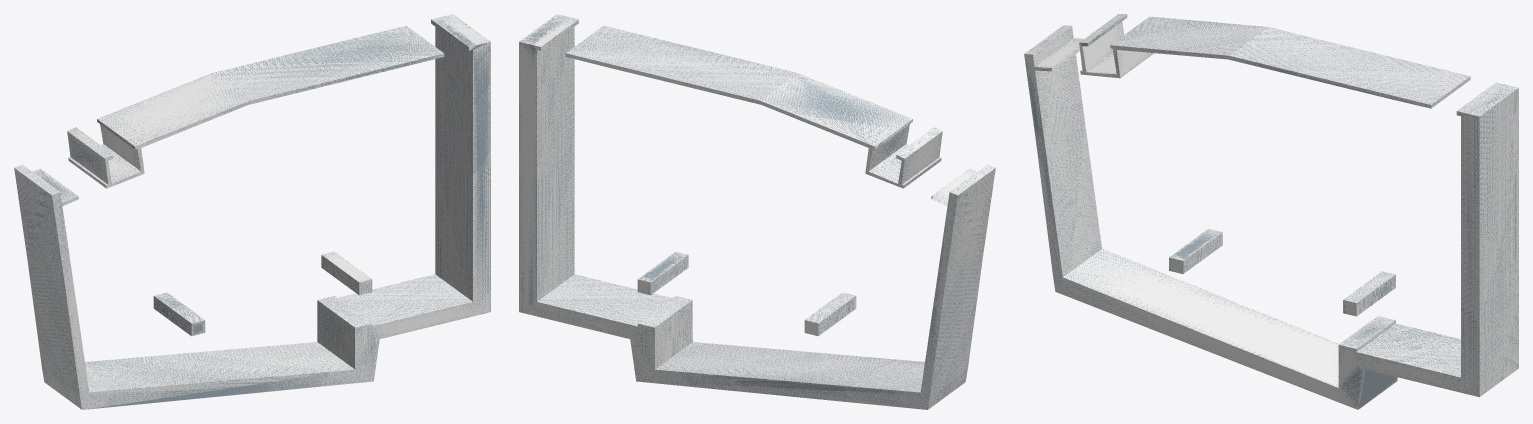
File: room.fbx
3 views of the same model, side by side, from view 1: azimuth 30°, elevation 25°; view 2: azimuth 150°, elevation 25°; view 3: azimuth 330°, elevation 25° (orthographic). The views are drawn at different scales.
Parts seen in each view (by area): view 1: Group1; view 2: Group1; view 3: Group1.
Part boxes in pixels (box(x1,y1,x2,y2)): Group1: box(14, 14, 490, 409); Group1: box(519, 14, 995, 409); Group1: box(1024, 14, 1518, 409).
Size of the model in its own units: 642 by 435 by 96.
